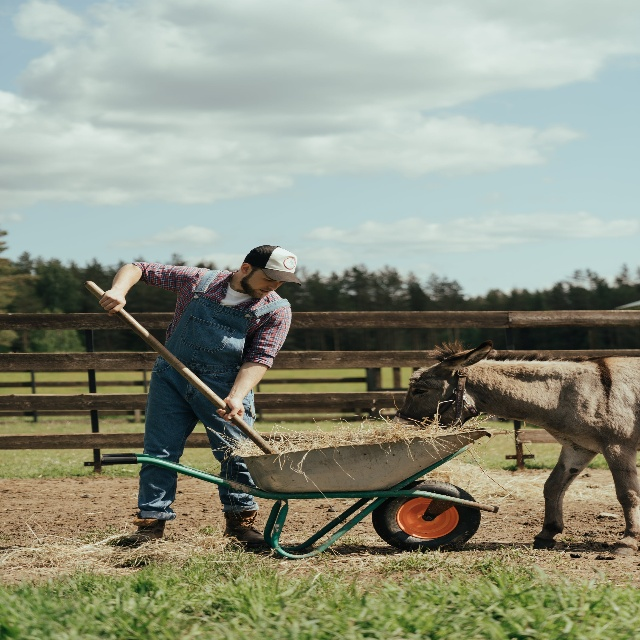Sin_guantes: (216, 394, 244, 427), (98, 287, 126, 319)
